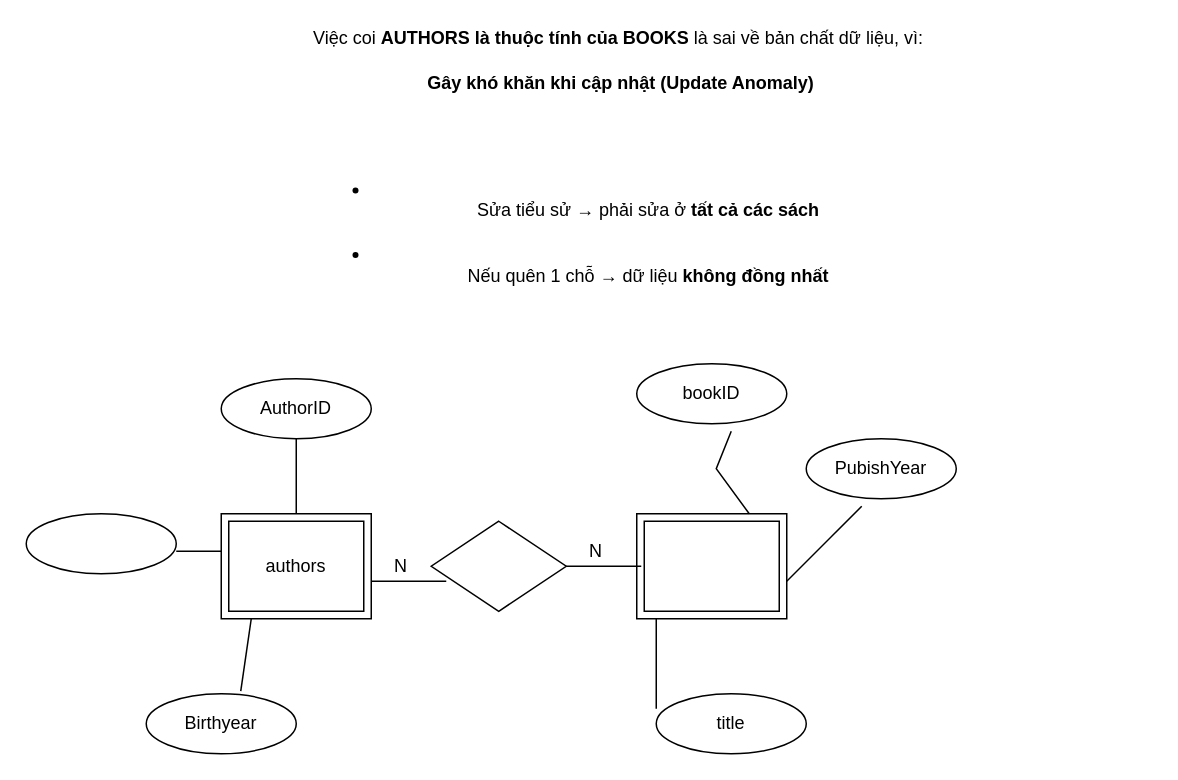
The diagram is 1178 pixels wide and 780 high, and some of its shapes have lost their labels. The centre of each missing label's shape, as x and y in pixels:
"Books" goes at point 711,565.
"Name" goes at point 100,543.
"writes" goes at point 498,565.
